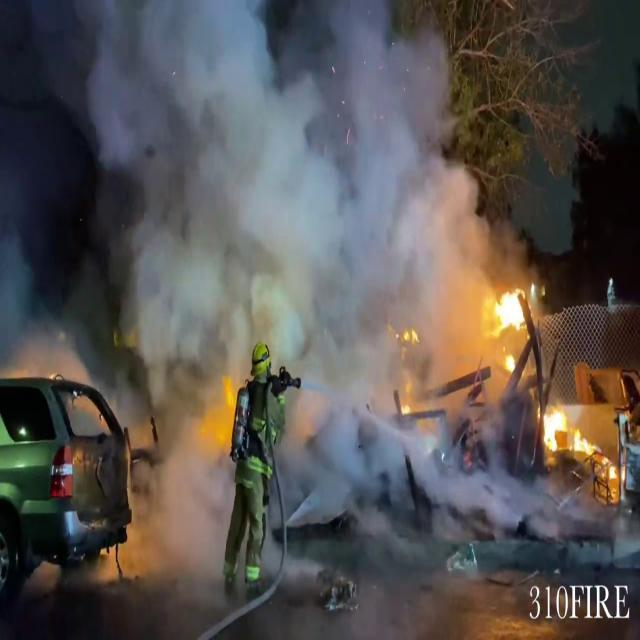Fire: (538, 401, 622, 482), (539, 399, 598, 464), (486, 276, 538, 346)
Smoke: (1, 0, 504, 457)
